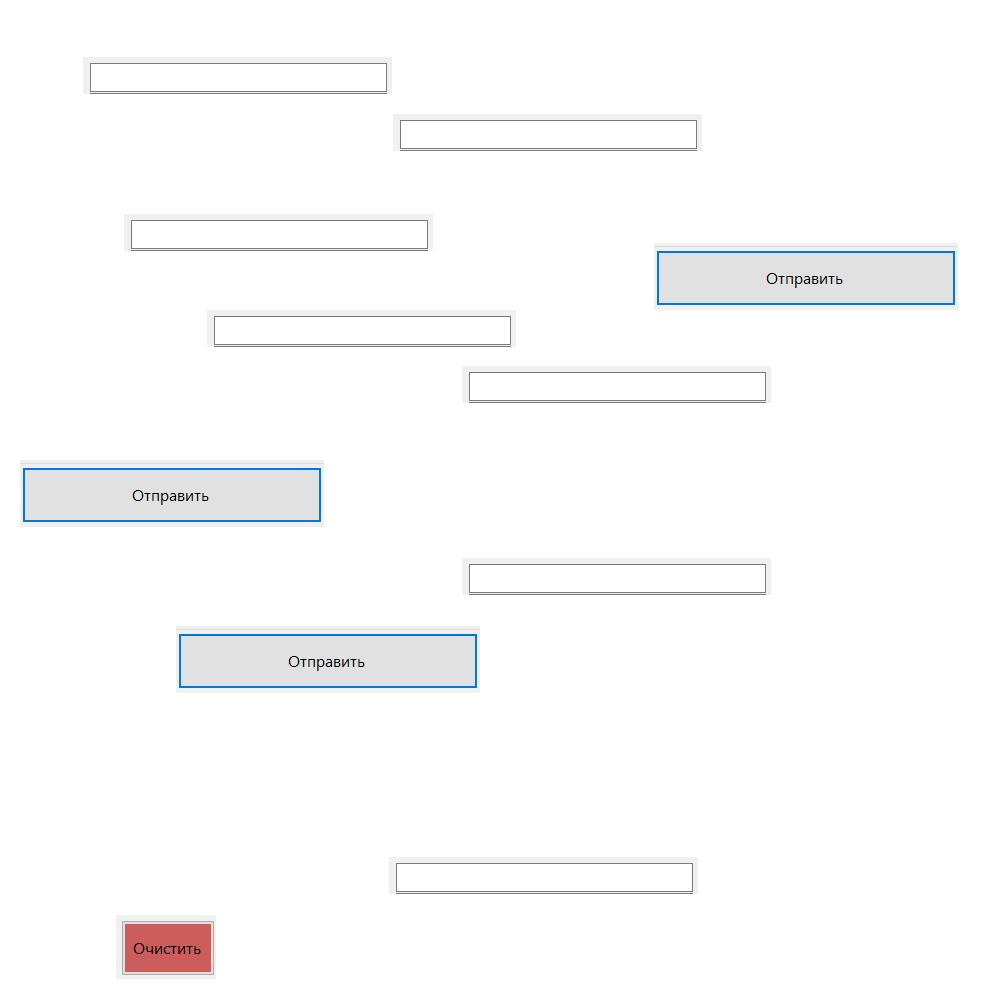Button: (20, 460, 324, 527), (654, 243, 958, 310), (176, 626, 480, 693), (116, 915, 216, 979)
EditText-: (462, 366, 771, 403), (207, 310, 516, 347), (389, 857, 698, 894), (83, 57, 392, 94), (393, 114, 702, 151), (462, 558, 771, 595), (124, 214, 433, 251)
